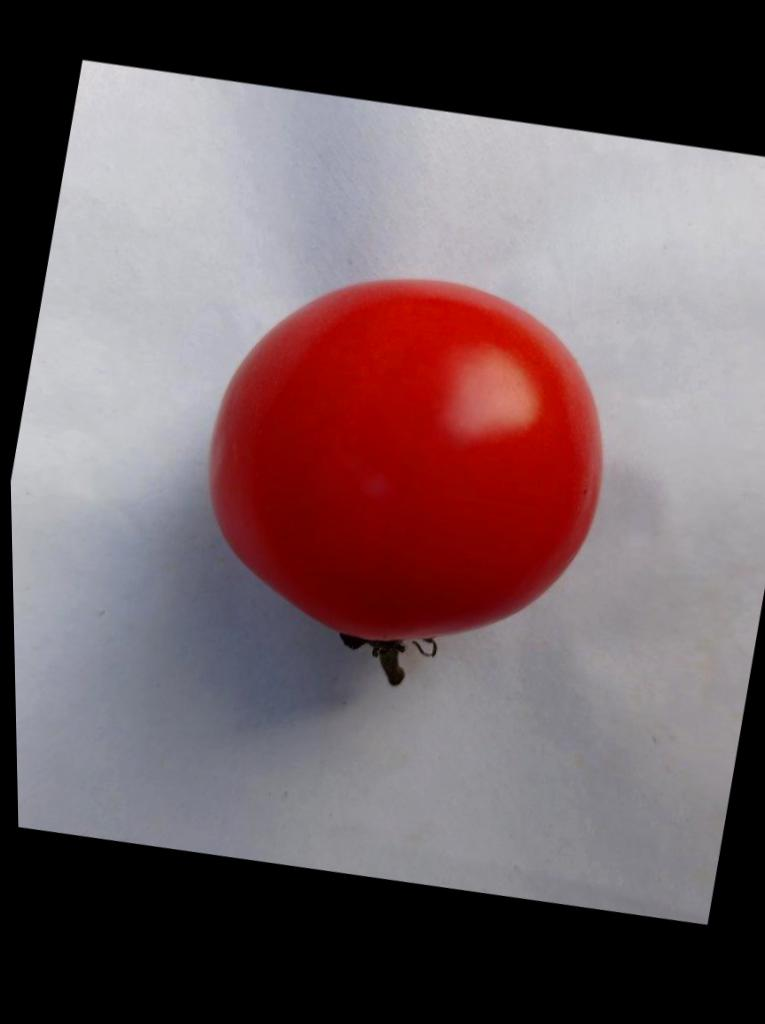tomato: (209, 280, 598, 685)
